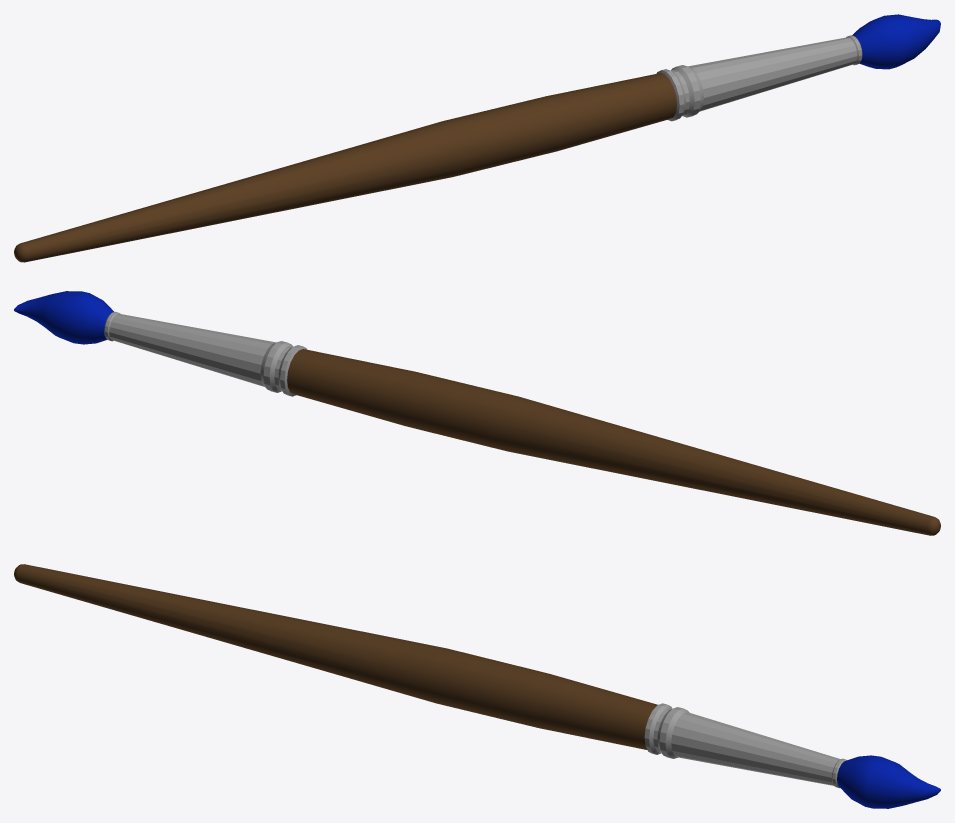
The model's file is paintbrush_01.fbx.
3 renders of one model, top to bottom at view 1: azimuth 30°, elevation 25°; view 2: azimuth 150°, elevation 25°; view 3: azimuth 330°, elevation 25°, orthographic.
Parts seen in each view (by area): view 1: paintbrush_01; view 2: paintbrush_01; view 3: paintbrush_01.
Part boxes in pixels (left/top/right/bottom): paintbrush_01: left=14, top=14, right=940, bottom=262; paintbrush_01: left=14, top=291, right=940, bottom=535; paintbrush_01: left=14, top=564, right=940, bottom=808.
Size of the model in its own units: 7.11 by 0.3781 by 0.3781.
